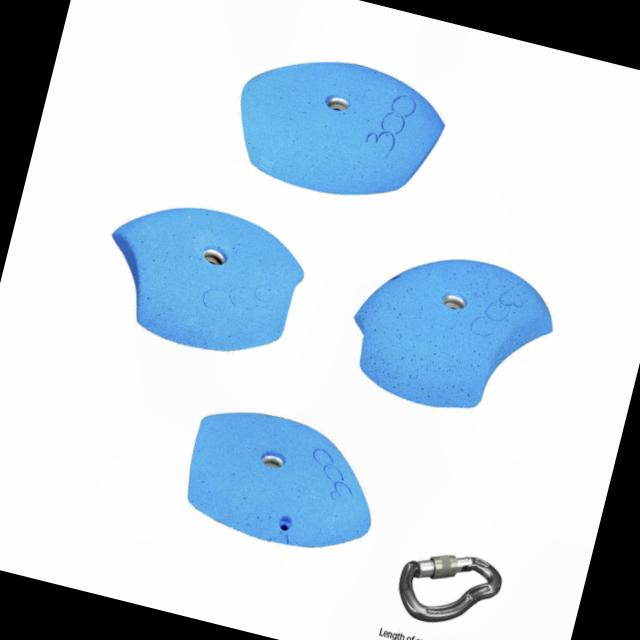Hold: (338, 234, 560, 426), (90, 188, 316, 366), (220, 38, 451, 212), (170, 398, 390, 564)
